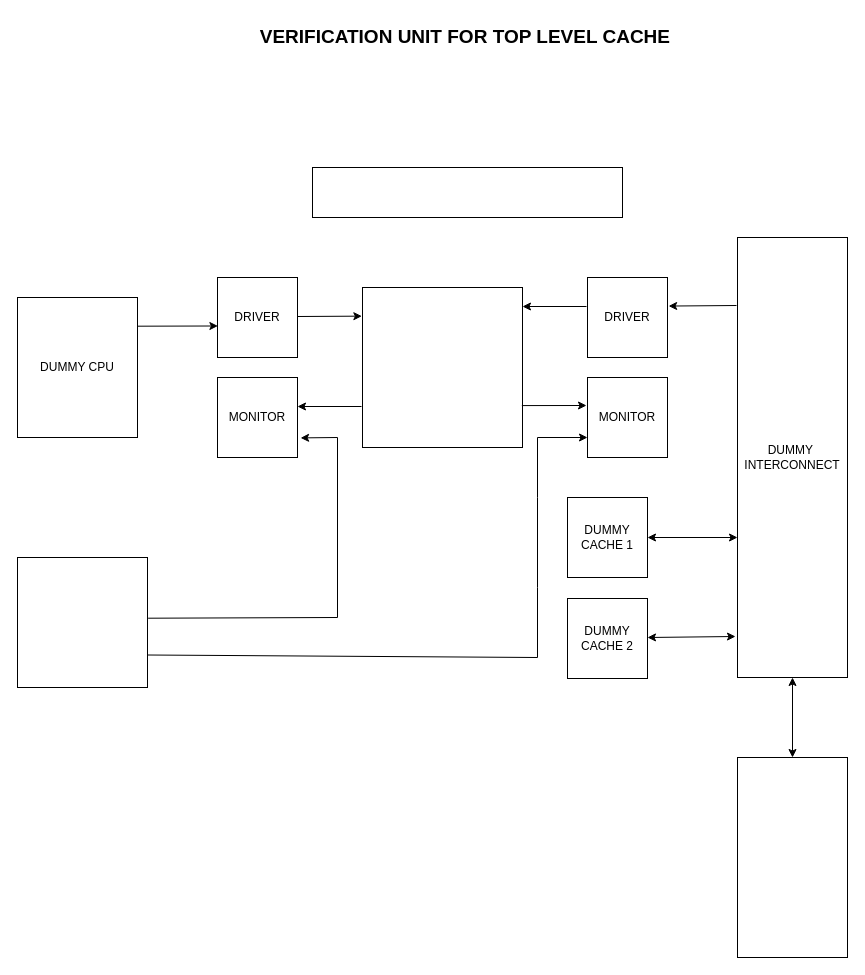
This 865x975 diagram has some shape labels left out. Here are the shapes that lost their labels. From the top down, the box of each, then its label:
(312, 166, 622, 218): DRIVER: Drive Inputs to the DUT MONITOR: Monitor outputs of the DUT
(362, 286, 522, 448): DUT (CACHE MODULE)
(16, 556, 148, 688): REFERENCE MODEL CACHE
(736, 756, 848, 958): DUMMY MAIN MEMORY
